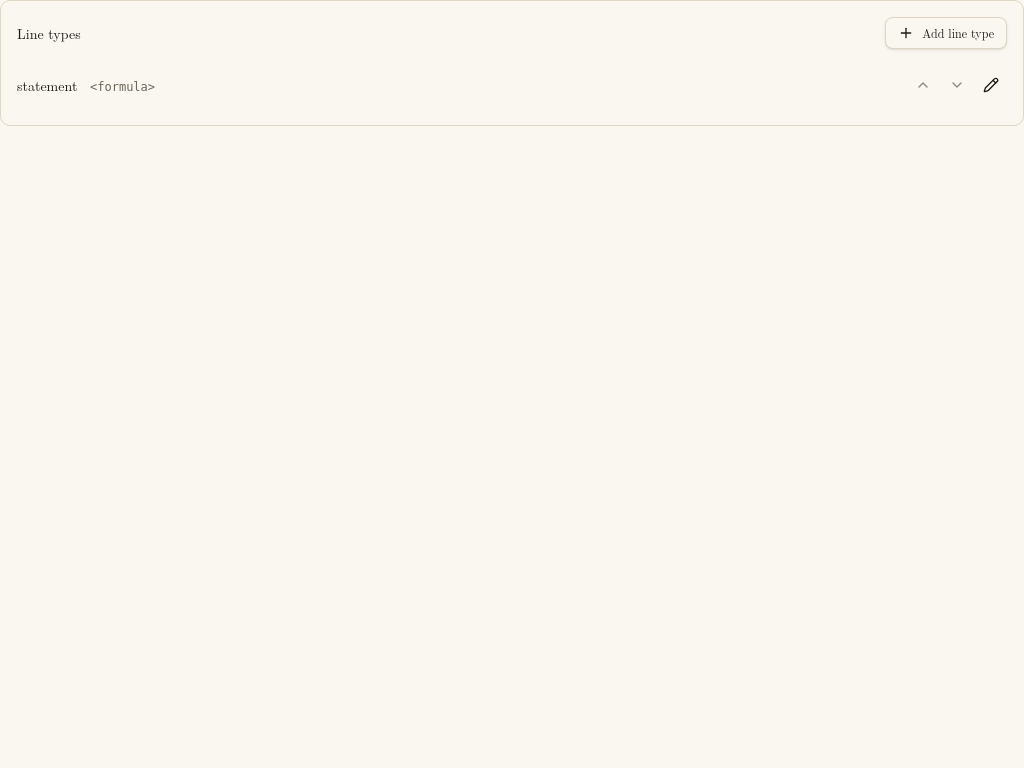
Test: LineTypesSection logical-sort validation › disables Save when the stored logical sort is no longer known
This screenshot has width=1024, height=768.
Click the 3rd button named "Edit ". click: (991, 85)
box: [975,69,1007,101]
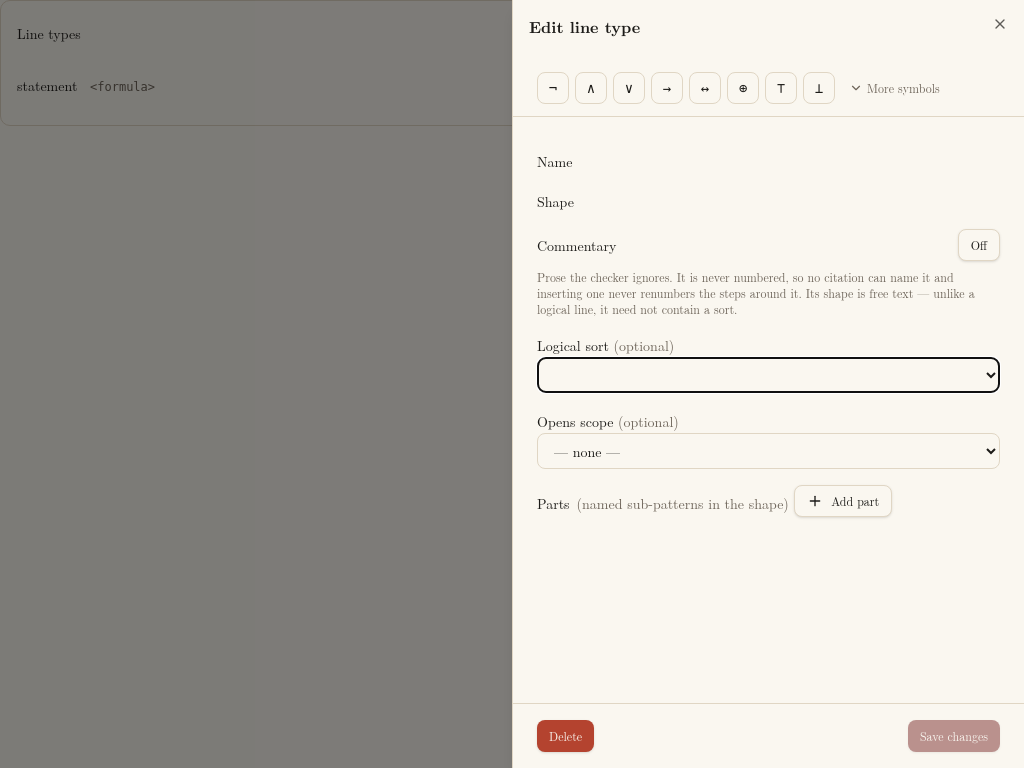
Check: the button "Save changes" is disabled, box [908,720,1000,752]
"— none —" (empty) is valid, since the logical sort is optional.
Select "— none —" in the dropdown labelled "Logical sort (optional)". click: (768, 375)
box: [537,357,1000,393]
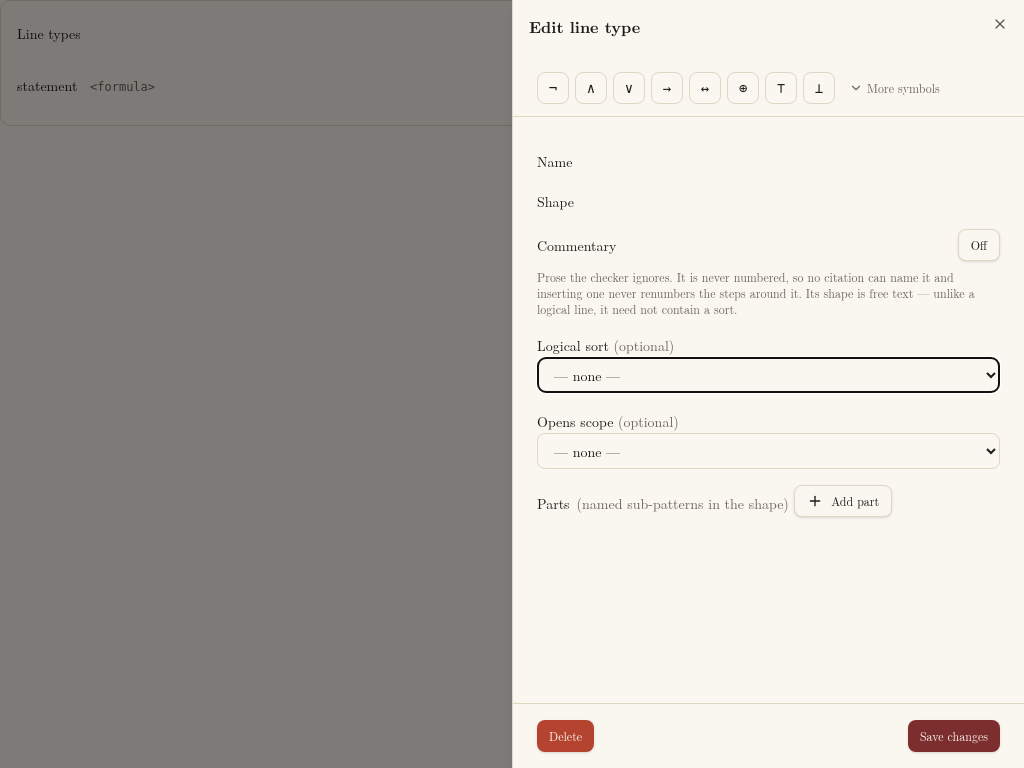
Check: the button "Save changes" is enabled, box [908,720,1000,752]
